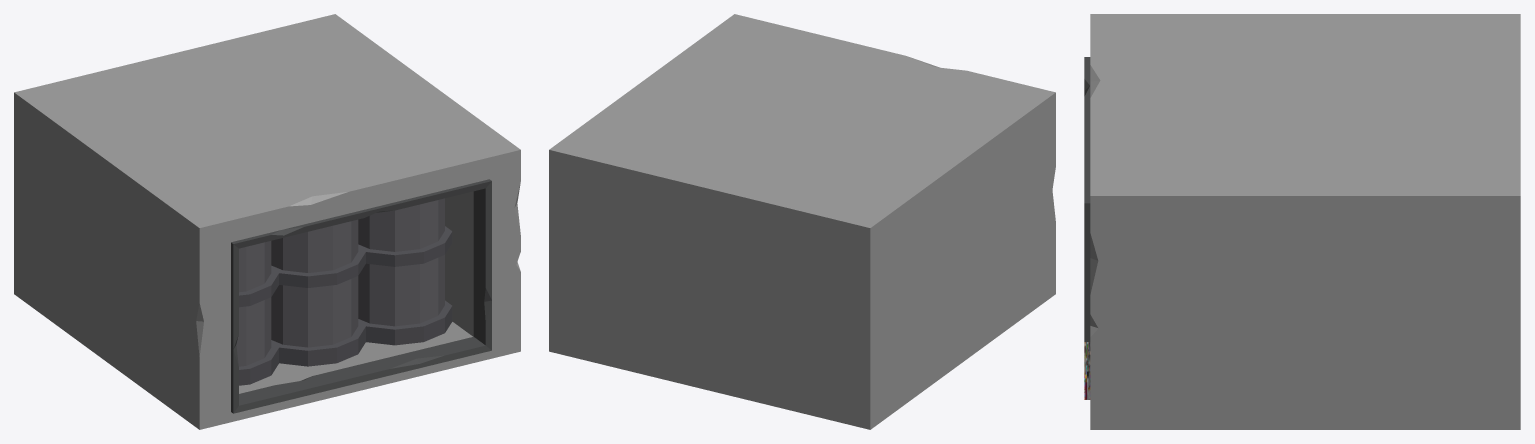
The model's file is city_SM_Bld_Section_Wall_03.gltf.
3 views of the same model, side by side, from view 1: azimuth 30°, elevation 25°; view 2: azimuth 150°, elevation 25°; view 3: azimuth 270°, elevation 25° (orthographic). The views are drawn at different scales.
Parts seen in each view (by area): view 1: SM_Bld_Section_Wall_03; view 2: SM_Bld_Section_Wall_03; view 3: SM_Bld_Section_Wall_03.
Part boxes in pixels (x1,y1,x2,y2): SM_Bld_Section_Wall_03: [14, 14, 520, 429]; SM_Bld_Section_Wall_03: [549, 14, 1055, 429]; SM_Bld_Section_Wall_03: [1084, 14, 1520, 429].
Bounding box in the file's own units: 5 × 3 × 5.07.
Materials: 1 (1 with a texture image).
